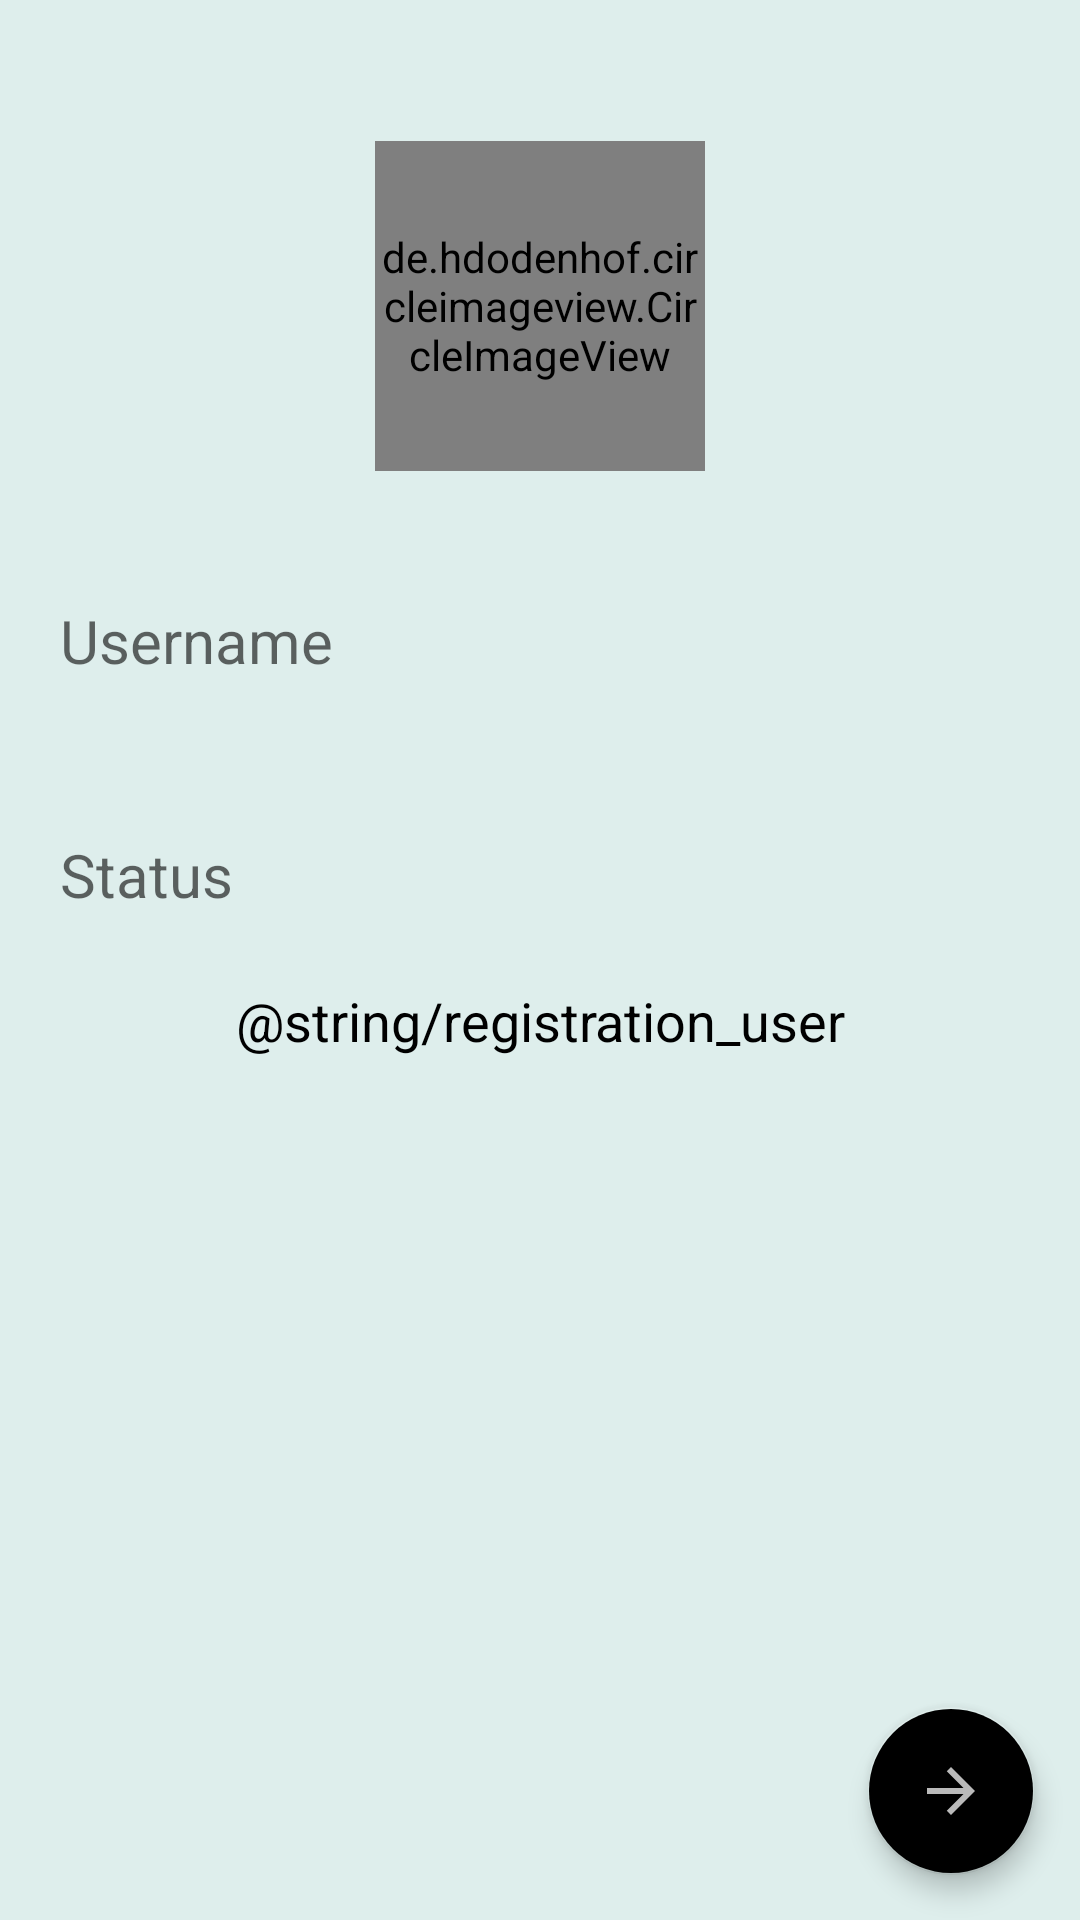

Point at icon controls on the screen. Image size 1080w x 1920h, points as point (x, y).
arrow forward: point (953, 1799)
